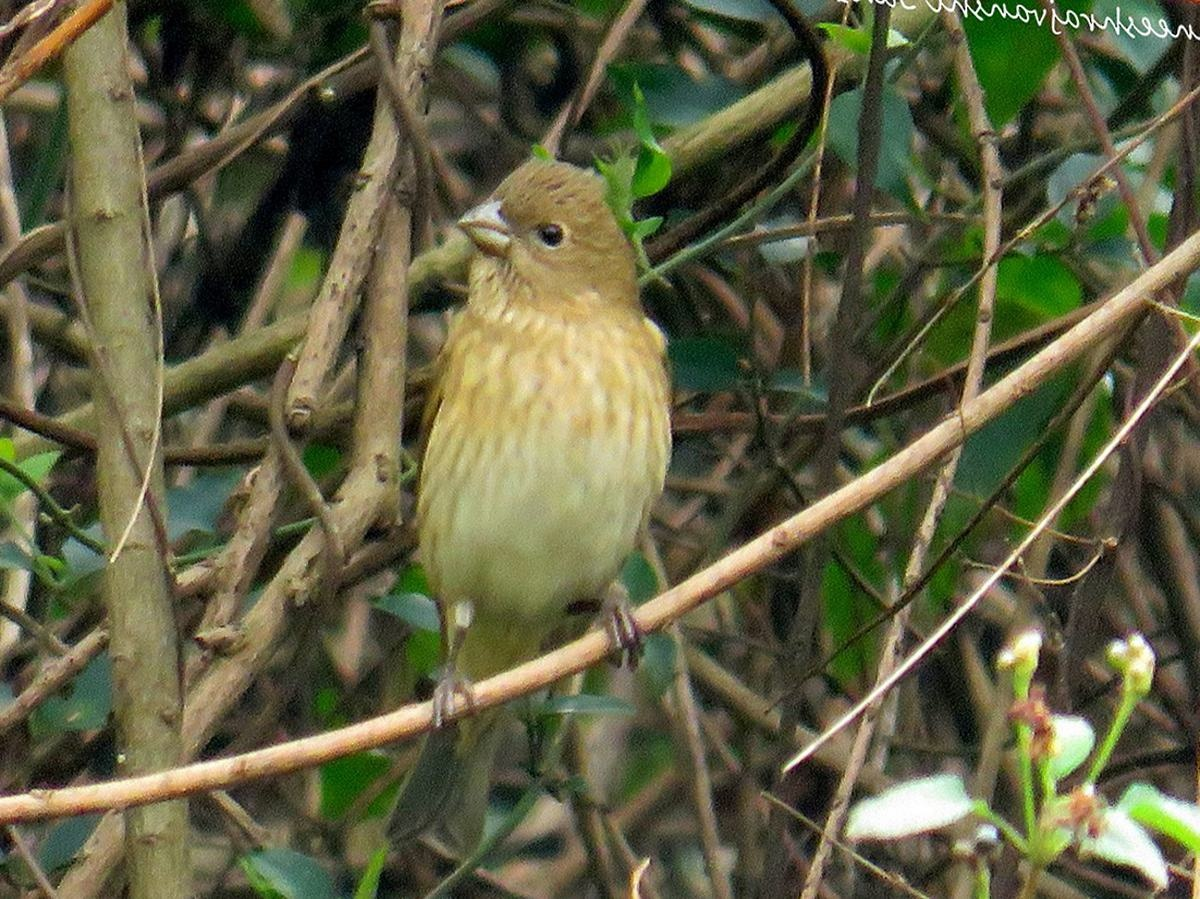rosefinch: (405, 143, 665, 673)
